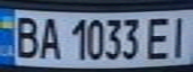0: (84, 16, 106, 61)
1: (63, 15, 87, 61)
3: (121, 15, 145, 62), (103, 16, 124, 61)
A: (36, 14, 63, 61)
B: (9, 12, 42, 60)
E: (142, 14, 175, 61)
I: (166, 12, 193, 60)
